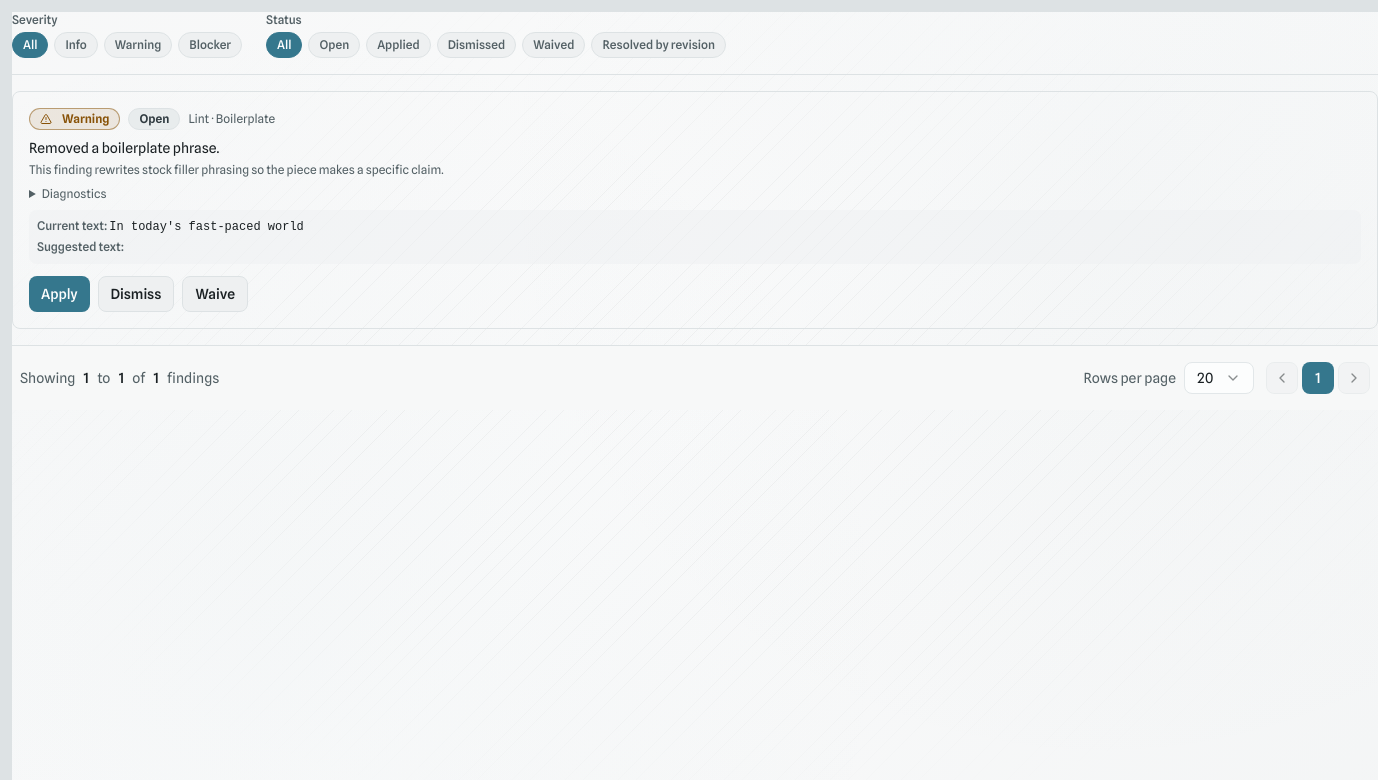
Scenario: DraftFindingsPanel › renders a conflict state with Reload on a 409 and never retries the mutation automatically
Click the button "Dismiss": {"x": 136, "y": 294} left=98, top=276, right=174, bottom=312
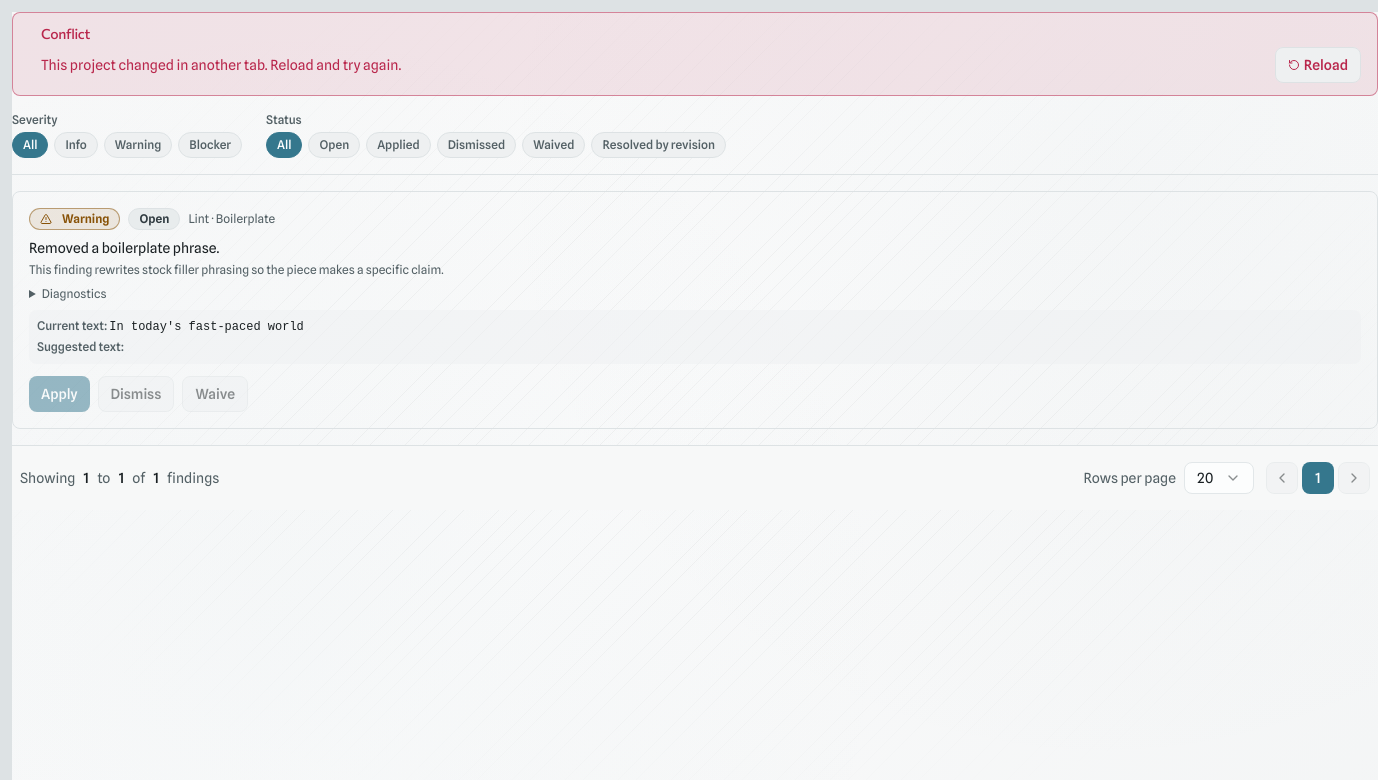
Expected: the text "This project changed in another tab. Reload and try again." is shown, left=41, top=54, right=401, bottom=74
Click the button "Reload": {"x": 1318, "y": 64} left=1275, top=46, right=1361, bottom=82
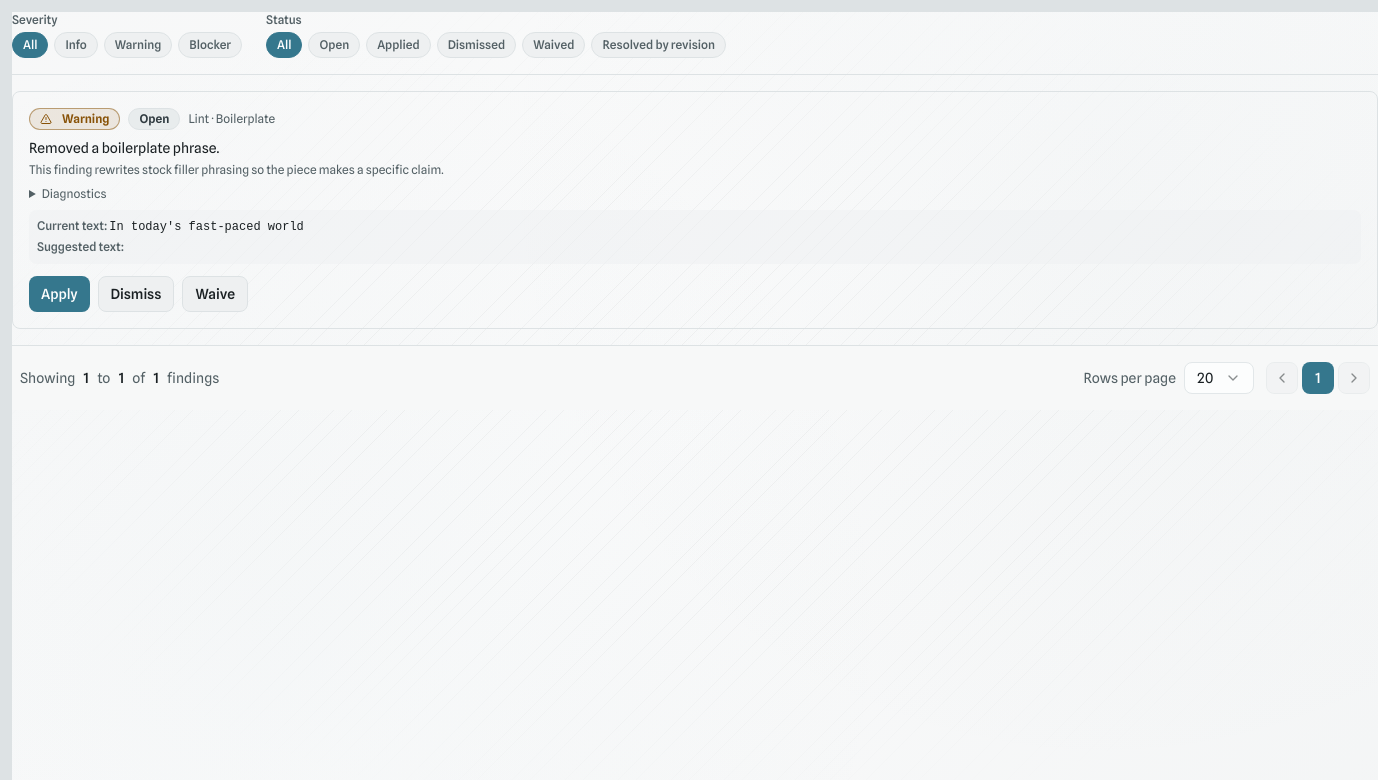
Expected: the text "changed in another tab" is gone
